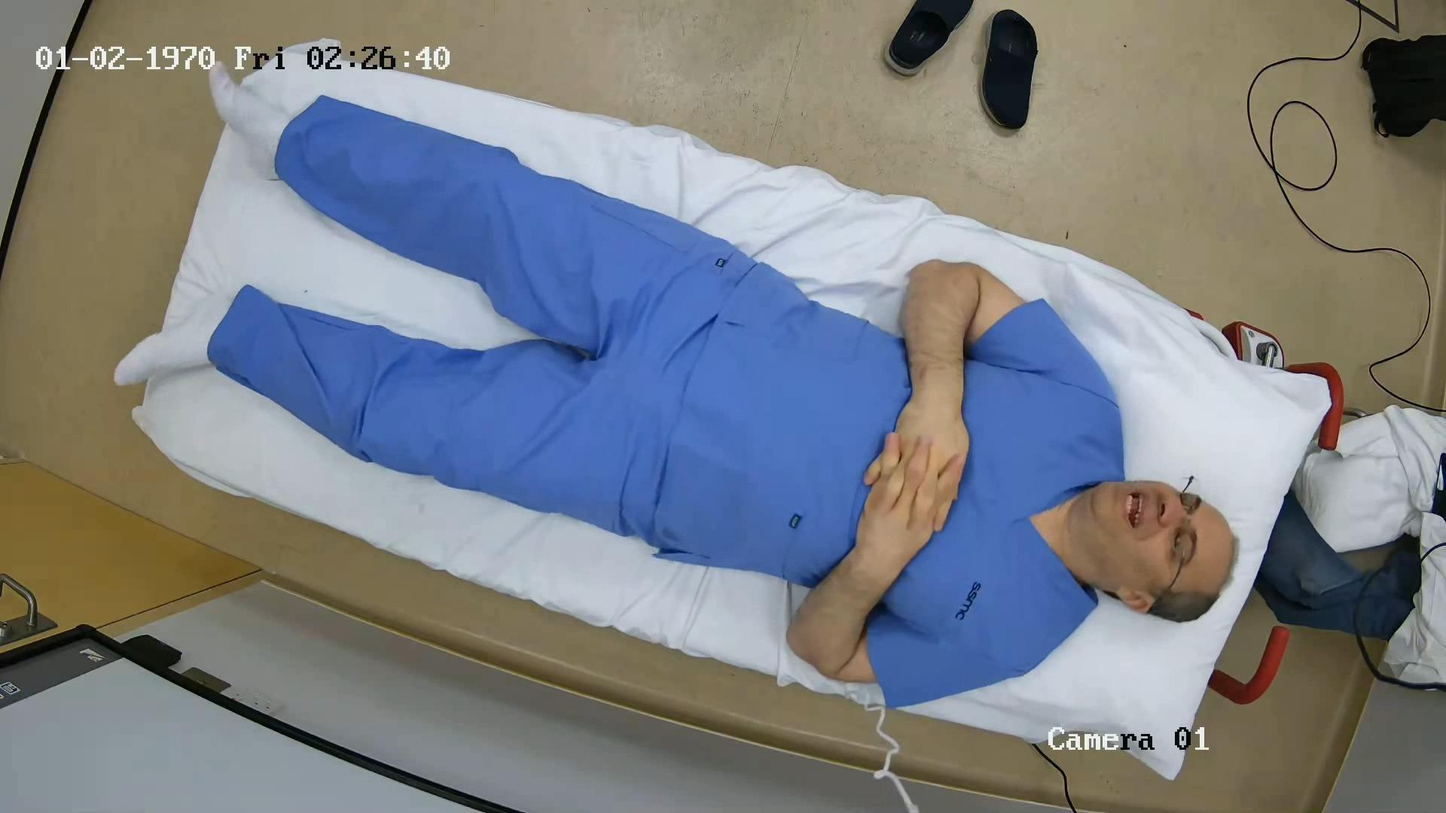bed: (133, 62, 1343, 783)
patient: (207, 99, 1234, 705)
